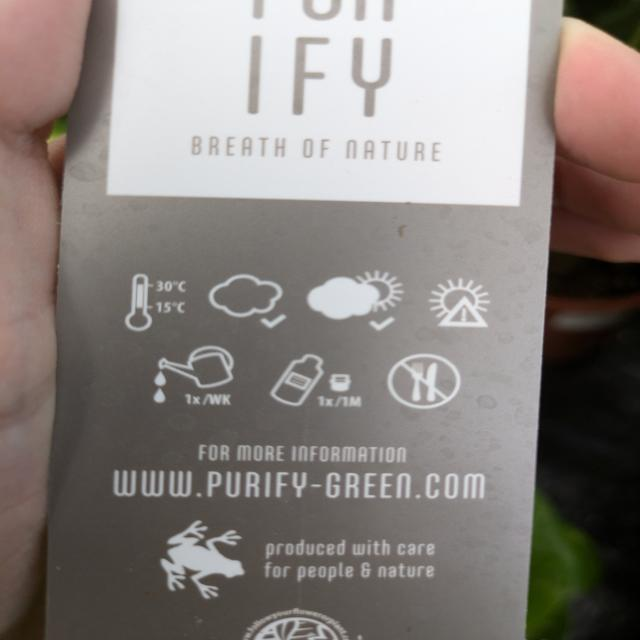dungen: (266, 357, 386, 422)
halb sonnig schattig: (306, 267, 414, 340)
keine Sonne: (426, 273, 506, 344)
mittel giesen: (150, 345, 242, 417)
schattig: (197, 266, 299, 336)
